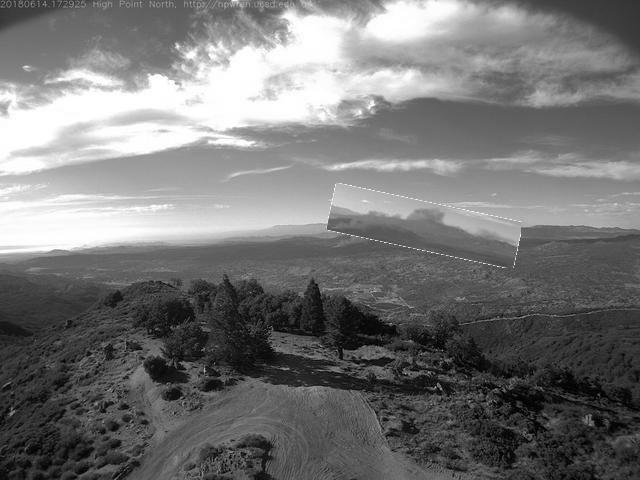smoke: (329, 194, 522, 261)
